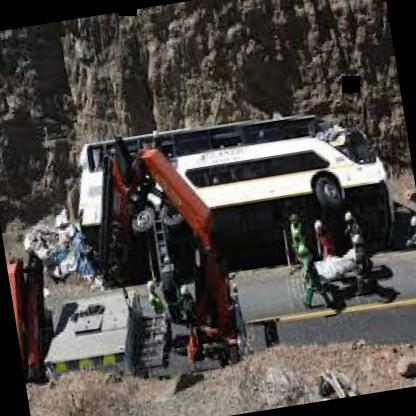accident: (27, 63, 416, 297), (47, 107, 292, 399)
